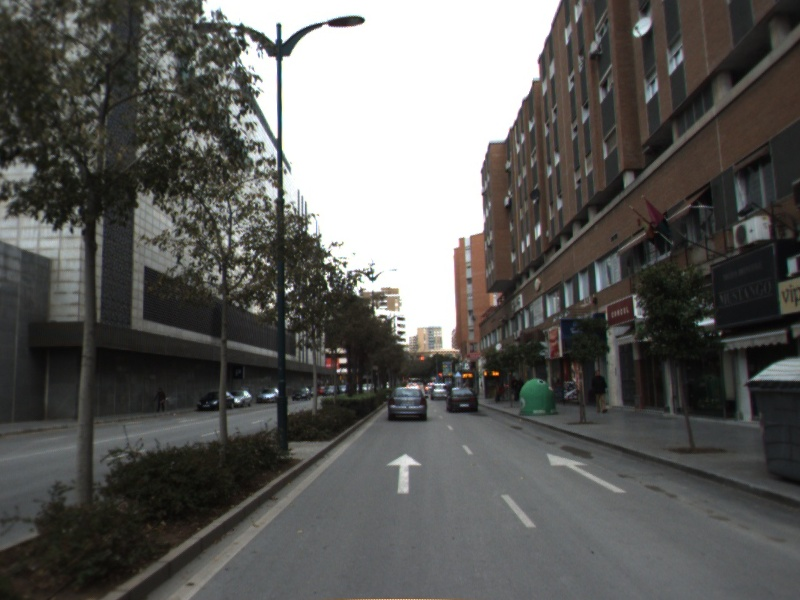STRAIGHT: (545, 451, 629, 495), (385, 452, 424, 496)
